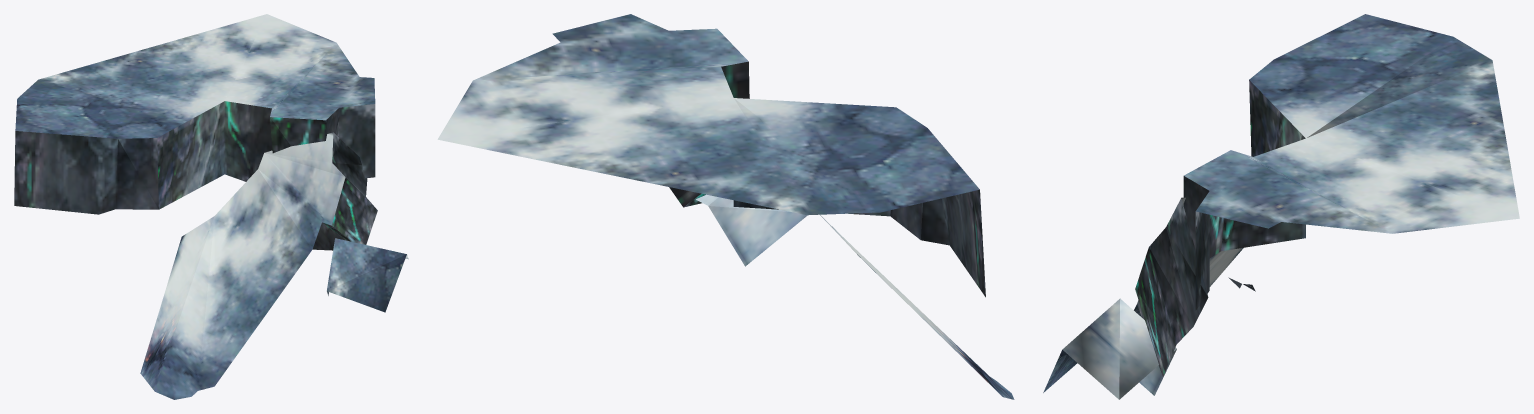
The model's file is S_Build_Snowland208_7.FBX.
The picture shows the model from 3 angles, left to right: view 1: azimuth 30°, elevation 25°; view 2: azimuth 150°, elevation 25°; view 3: azimuth 270°, elevation 25°; orthographic projection. The views are drawn at different scales.
Parts seen in each view (by area): view 1: S_Build_Snowland208_7; view 2: S_Build_Snowland208_7; view 3: S_Build_Snowland208_7.
Part boxes in pixels (x1,y1,x2,y2): S_Build_Snowland208_7: (14,14,408,399); S_Build_Snowland208_7: (437,14,1014,399); S_Build_Snowland208_7: (1043,14,1519,399).
Bounding box in the file's own units: 587 × 534 × 369.
